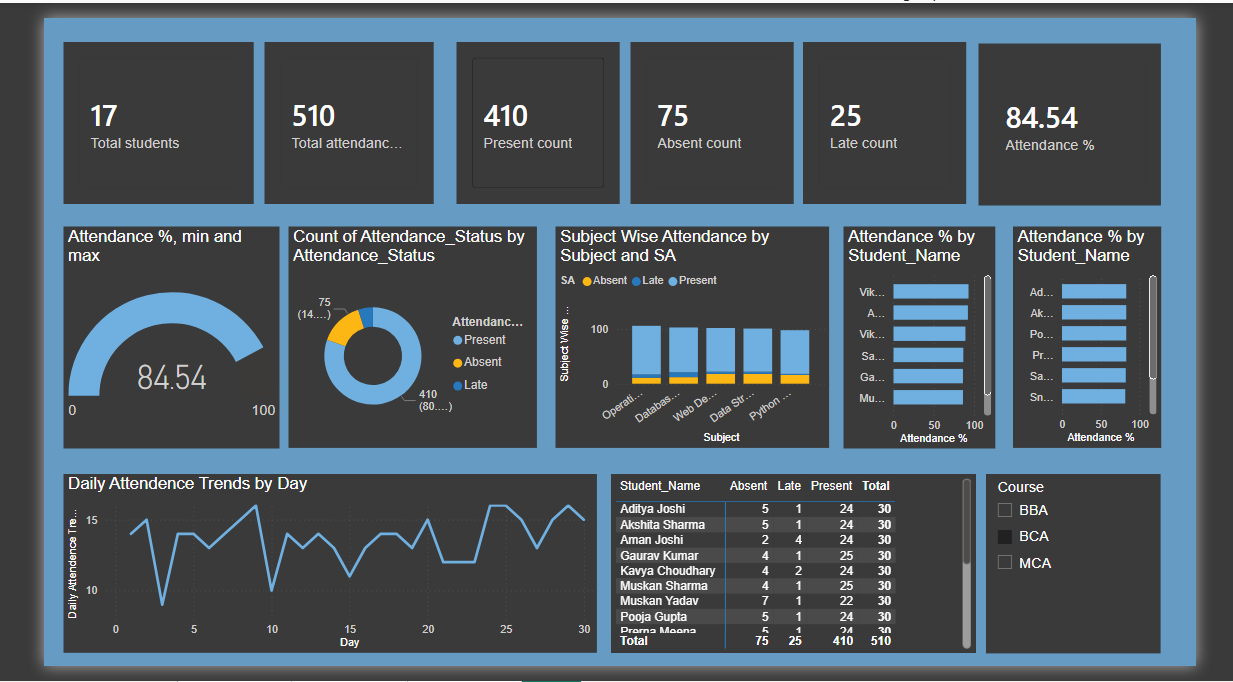

This screenshot's page, from the dashboard's own definition file:
{"tool":"powerbi","page":{"name":"Page 2","canvas":[1280,720],"ordinal":1},"visuals":[{"type":"cardVisual","fields":{"Data":["Attendance.Total students"]},"box":[22,27.4,211.3,179.8],"z":0},{"type":"cardVisual","fields":{"Data":["Attendance.Late count"]},"box":[843.9,27.4,181.1,179.8],"z":1000},{"type":"cardVisual","fields":{"Data":["Attendance.Absent count"]},"box":[651.8,27.4,181.1,179.8],"z":2000},{"type":"cardVisual","fields":{"Data":["Attendance.Present count"]},"box":[458.3,27.4,181.1,179.8],"z":3000},{"type":"cardVisual","fields":{"Data":["Attendance.Total attendance records"]},"box":[245.6,27.4,188,179.8],"z":4000},{"type":"cardVisual","fields":{"Data":["Attendance.Attendance %"]},"box":[1038.7,27.7,202.7,179.8],"z":5000},{"type":"gauge","fields":{"Y":["Attendance.Attendance %"],"MinValue":["Attendance.min"],"MaxValue":["Attendance.max"]},"box":[22,231.9,240.1,247],"z":6000},{"type":"donutChart","fields":{"Category":["Attendance.Attendance_Status"],"Y":["CountNonNull(Attendance.Attendance_Status)"]},"box":[272.1,232.4,275.9,245.7],"z":7000},{"type":"lineChart","fields":{"Y":["Attendance.Present count"],"Category":["Attendance.Attendance_Date.Variation.Date Hierarchy.Day"]},"box":[22,506.3,592.8,199],"z":8000},{"type":"columnChart","fields":{"Category":["Attendance.Subject"],"Series":["Attendance.Attendance_Status"],"Y":["CountNonNull(Attendance.Attendance_ID)"]},"box":[568.8,232.4,304.3,245.7],"z":9000},{"type":"clusteredBarChart","fields":{"Category":["Students.Student_Name"],"Y":["Attendance.Attendance %"]},"box":[1077.2,232.4,164.4,245.7],"z":10000},{"type":"clusteredBarChart","fields":{"Category":["Students.Student_Name"],"Y":["Attendance.Attendance %"]},"box":[887.8,231.9,168.8,247],"z":11000},{"type":"pivotTable","fields":{"Rows":["Students.Student_Name"],"Columns":["Attendance.Attendance_Status"],"Values":["CountNonNull(Attendance.Attendance_ID)"]},"box":[629.8,506.3,404.8,199],"z":12000},{"type":"slicer","fields":{"Values":["Students.Course"]},"box":[1047.2,506.7,194.2,199.1],"z":13000}]}

Visuals, with their boxes in screenshot pixels (x1, y1, x2, y2), scaled from the page's 1280x720 canvas onto the 1233x682 screenshot:
cardVisual - Attendance.Total students: box(21, 26, 225, 196)
cardVisual - Attendance.Late count: box(813, 26, 987, 196)
cardVisual - Attendance.Absent count: box(628, 26, 802, 196)
cardVisual - Attendance.Present count: box(441, 26, 616, 196)
cardVisual - Attendance.Total attendance records: box(237, 26, 418, 196)
cardVisual - Attendance.Attendance %: box(1001, 26, 1196, 197)
gauge - Attendance.Attendance % x Attendance.min: box(21, 220, 252, 454)
donutChart - Attendance.Attendance_Status x CountNonNull(Attendance.Attendance_Status): box(262, 220, 528, 453)
lineChart - Attendance.Present count x Attendance.Attendance_Date.Variation.Date Hierarchy.Day: box(21, 480, 592, 668)
columnChart - Attendance.Subject x Attendance.Attendance_Status: box(548, 220, 841, 453)
clusteredBarChart - Students.Student_Name x Attendance.Attendance %: box(1038, 220, 1196, 453)
clusteredBarChart - Students.Student_Name x Attendance.Attendance %: box(855, 220, 1018, 454)
pivotTable - Students.Student_Name x Attendance.Attendance_Status: box(607, 480, 997, 668)
slicer - Students.Course: box(1009, 480, 1196, 669)
